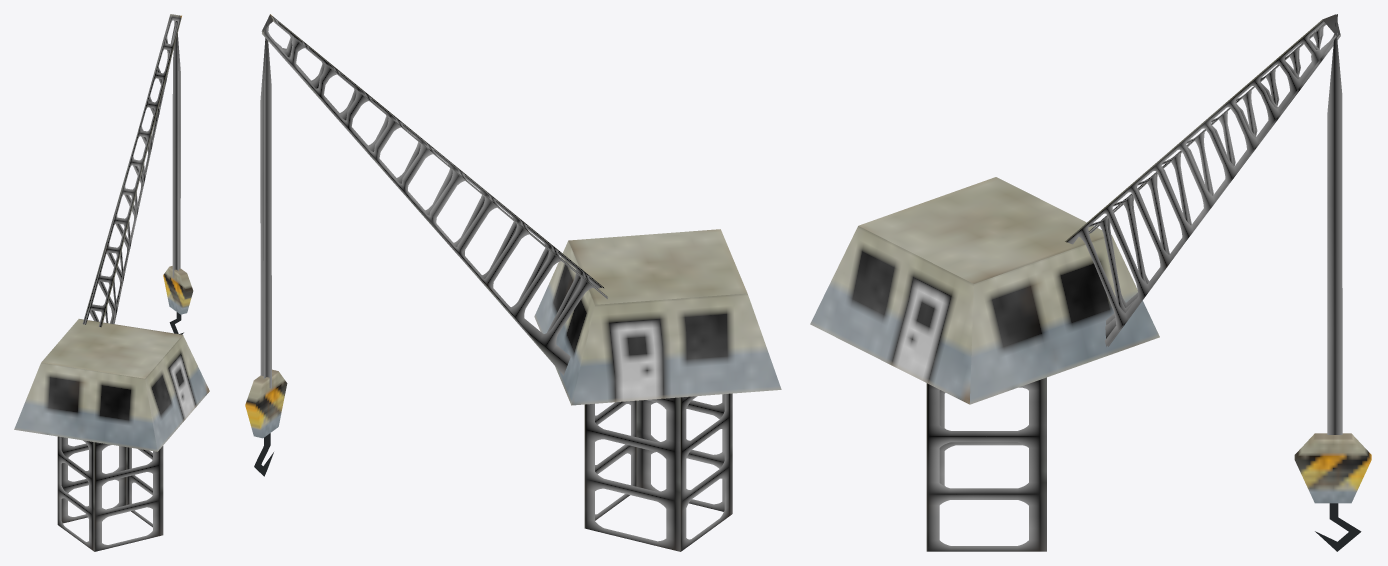
The model's file is crane.glb.
3 views of the same model, side by side, from view 1: azimuth 30°, elevation 25°; view 2: azimuth 150°, elevation 25°; view 3: azimuth 270°, elevation 25° (orthographic). The views are drawn at different scales.
Parts seen in each view (by area): view 1: Crane, LOS_CraneBoom_PAB; view 2: Crane, LOS_CraneBoom_PAB; view 3: Crane, LOS_CraneBoom_PAB.
Part boxes in pixels (bbox=[...]): Crane: bbox=[14, 319, 209, 551]; LOS_CraneBoom_PAB: bbox=[82, 14, 193, 334]; Crane: bbox=[534, 229, 781, 551]; LOS_CraneBoom_PAB: bbox=[245, 14, 607, 476]; Crane: bbox=[810, 177, 1159, 551]; LOS_CraneBoom_PAB: bbox=[1065, 14, 1371, 551].
Bounding box in the file's own units: 10.79 × 14.29 × 11.34.
Materials: 1 (1 with a texture image).
